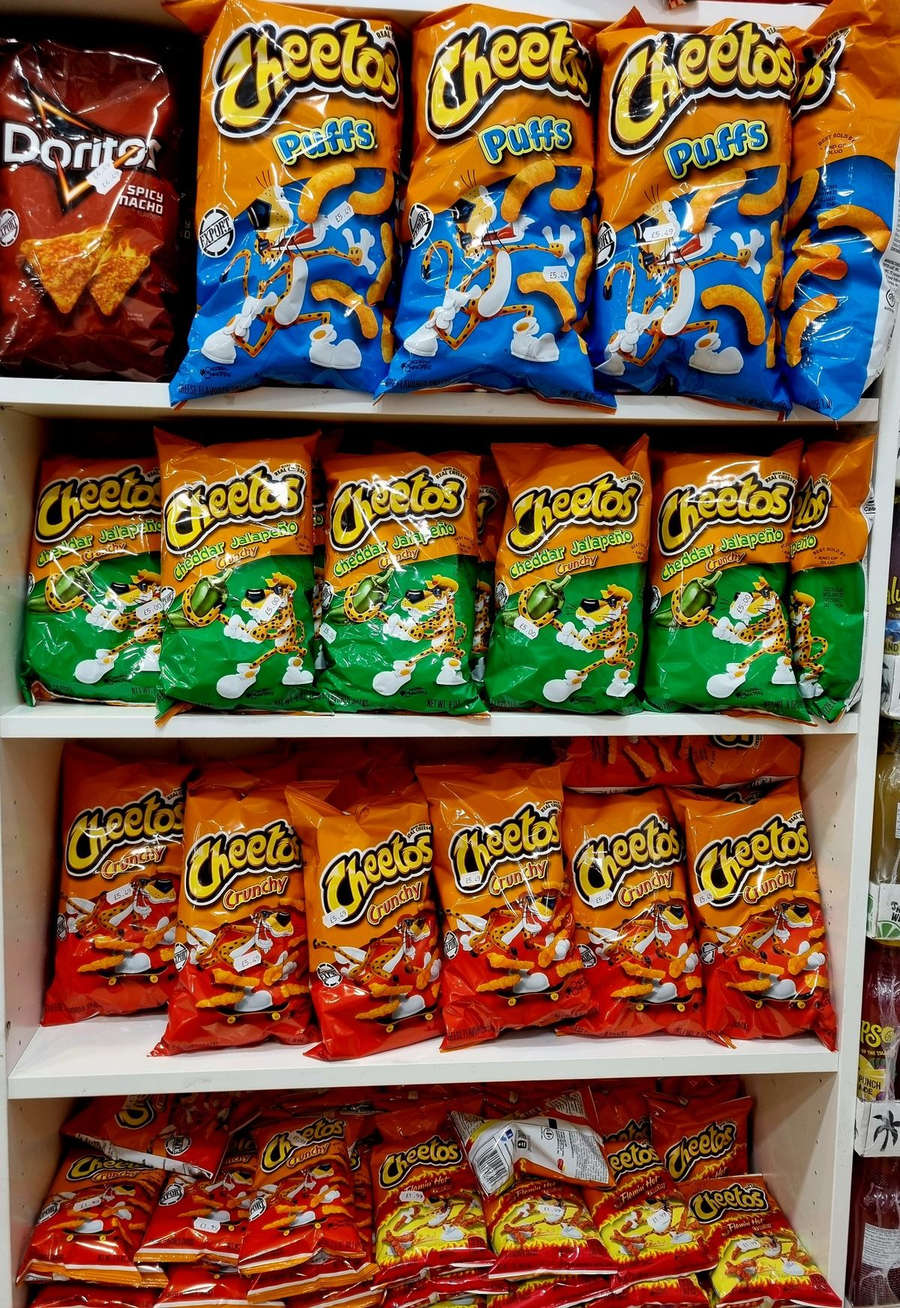snacks: (382, 5, 614, 403), (0, 40, 180, 379), (157, 431, 313, 719), (487, 437, 650, 712), (287, 783, 443, 1058)
